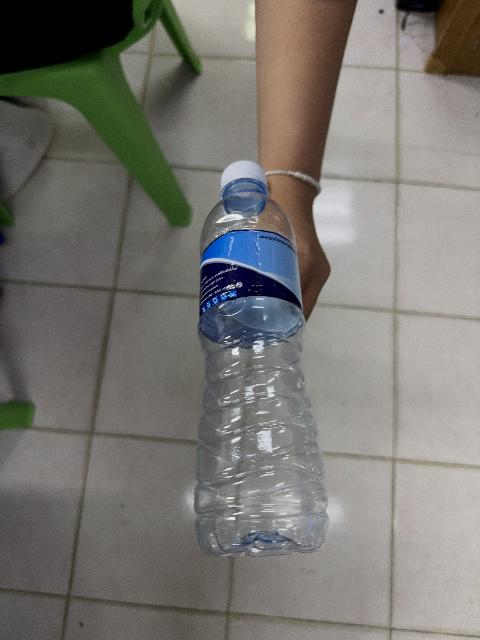bottle: (194, 161, 326, 556)
